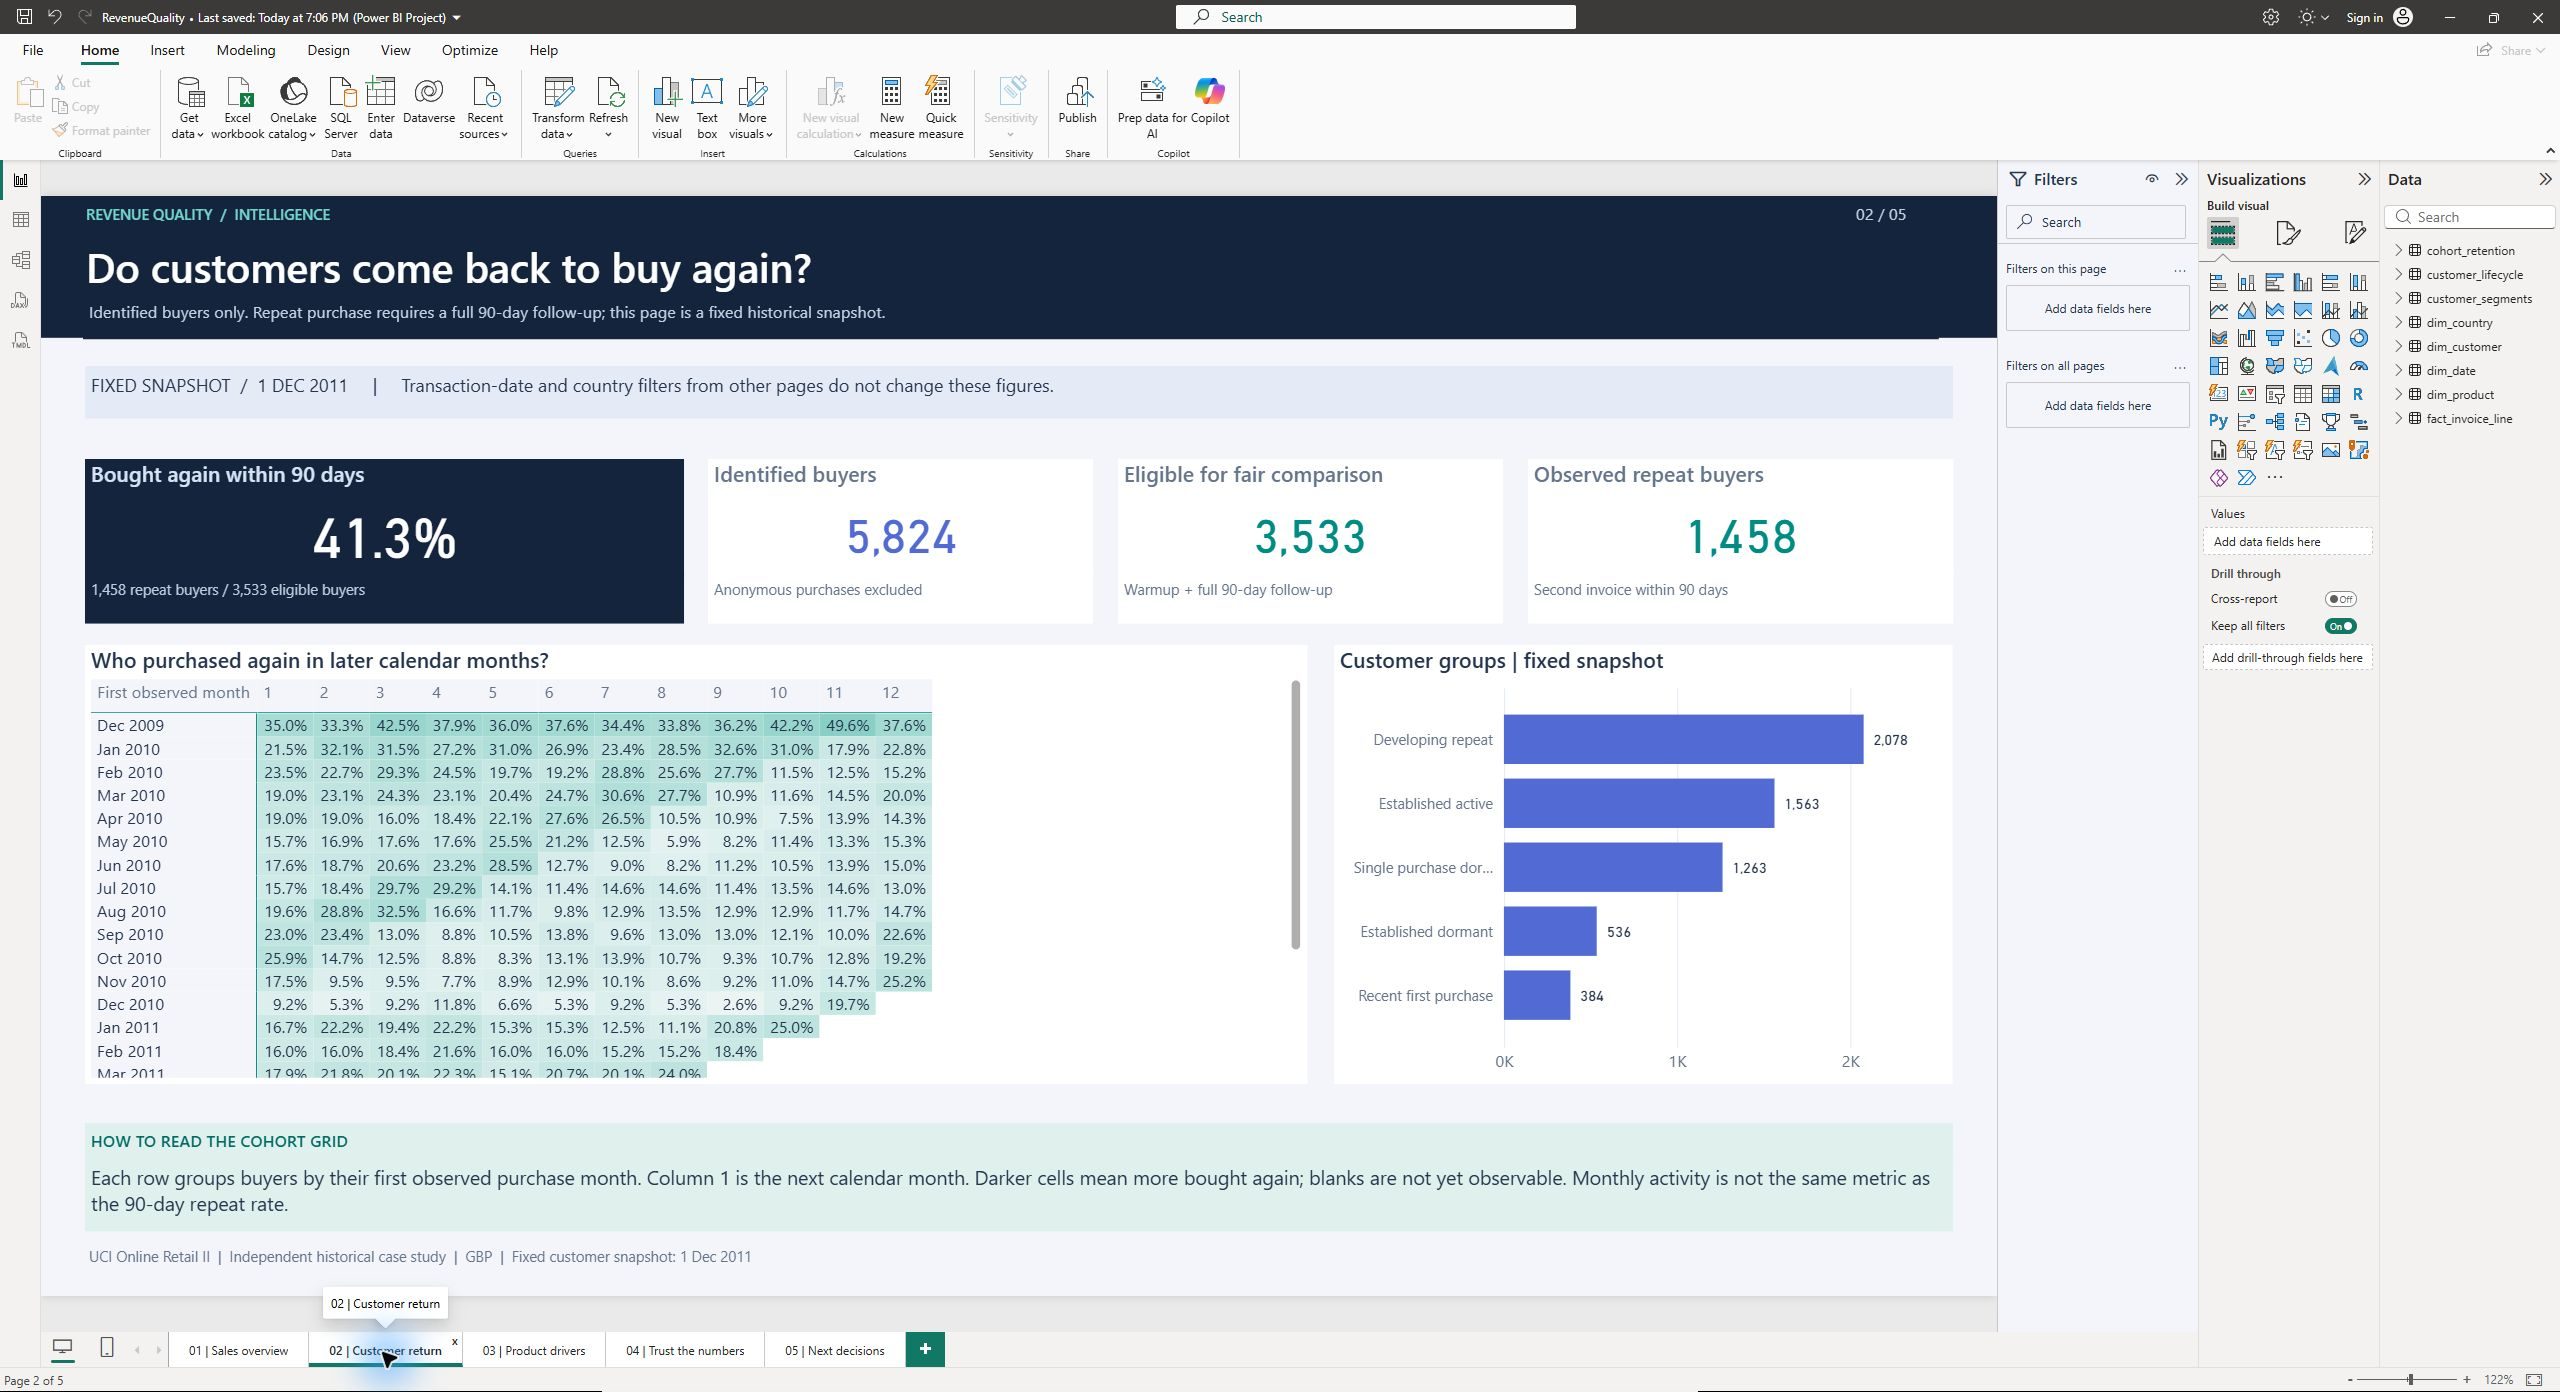

This screenshot's page, from the dashboard's own definition file:
{"tool":"powerbi","page":{"name":"02 | Customer return","canvas":[1600,900],"ordinal":1},"visuals":[{"type":"textbox","box":[0,0,1600,116],"z":21},{"type":"textbox","box":[32,0,1000,35.5],"z":22},{"type":"textbox","box":[32,30,1515,61],"z":23},{"type":"textbox","box":[34,80,1518,37],"z":24},{"type":"textbox","box":[1480,0,92,37],"z":25},{"type":"textbox","box":[34,852,1530,36],"z":26},{"type":"textbox","box":[36,139,1528,43],"z":27},{"type":"card","title":"Bought again within 90 days","fields":{"Values":["fact_invoice_line.Repeat 90d Rate"]},"box":[36,215,490,96],"z":28},{"type":"textbox","box":[36,307,490,43],"z":29},{"type":"card","title":"Identified buyers","fields":{"Values":["fact_invoice_line.Snapshot Customers"]},"box":[546,215,315,96],"z":30},{"type":"textbox","box":[546,307,315,43],"z":31},{"type":"card","title":"Eligible for fair comparison","fields":{"Values":["fact_invoice_line.Mature 90d Customers"]},"box":[881,215,315,96],"z":32},{"type":"textbox","box":[881,307,315,43],"z":33},{"type":"card","title":"Observed repeat buyers","fields":{"Values":["fact_invoice_line.Mature 90d Repeat Customers"]},"box":[1216,215,348,96],"z":34},{"type":"textbox","box":[1216,307,348,43],"z":35},{"type":"pivotTable","title":"Who purchased again in later calendar months?","fields":{"Columns":["cohort_retention.month_age"],"Rows":["cohort_retention.cohort_month"],"Values":["fact_invoice_line.Purchase Retention Rate"]},"box":[36,367,1000,359],"z":36},{"type":"clusteredBarChart","title":"Customer groups | fixed snapshot","fields":{"Category":["customer_segments.segment"],"Y":["fact_invoice_line.Snapshot Customers"]},"box":[1058,367,506,359],"z":37},{"type":"textbox","box":[36,758,1528,37],"z":38},{"type":"textbox","box":[36,787,1528,60],"z":39}]}

Visuals, with their boxes on the page's 1600x900 design canvas (x1, y1, x2, y2). These are canvas units, not pixel positions in the 2560x1392 screenshot, which may show the page scaled, cropped or inside an application window:
textbox: box=[0, 0, 1600, 116]
textbox: box=[32, 0, 1032, 36]
textbox: box=[32, 30, 1547, 91]
textbox: box=[34, 80, 1552, 117]
textbox: box=[1480, 0, 1572, 37]
textbox: box=[34, 852, 1564, 888]
textbox: box=[36, 139, 1564, 182]
"Bought again within 90 days" card: box=[36, 215, 526, 311]
textbox: box=[36, 307, 526, 350]
"Identified buyers" card: box=[546, 215, 861, 311]
textbox: box=[546, 307, 861, 350]
"Eligible for fair comparison" card: box=[881, 215, 1196, 311]
textbox: box=[881, 307, 1196, 350]
"Observed repeat buyers" card: box=[1216, 215, 1564, 311]
textbox: box=[1216, 307, 1564, 350]
"Who purchased again in later calendar months?" pivotTable: box=[36, 367, 1036, 726]
"Customer groups | fixed snapshot" clusteredBarChart: box=[1058, 367, 1564, 726]
textbox: box=[36, 758, 1564, 795]
textbox: box=[36, 787, 1564, 847]
